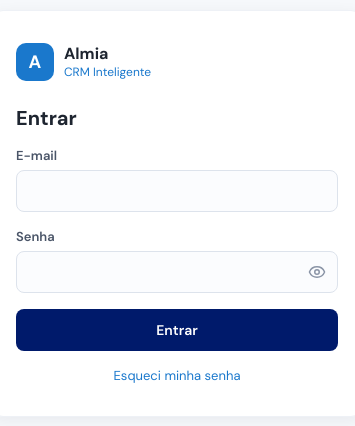
Scenario: Login › mostra a mensagem de erro quando as credenciais são inválidas
The width and height of the screenshot is (355, 426).
Type "ana@almia.pro" into the field labelled "E-mail" at [177, 190], box left=16, top=170, right=338, bottom=212
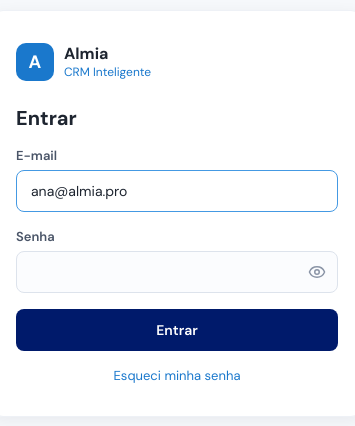
Type "senha-segura-1" into the password field labelled "Senha" at [177, 272], box left=16, top=250, right=338, bottom=292
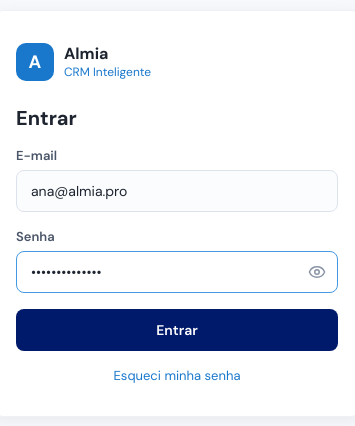
Click the button "Entrar" at [177, 330], box left=16, top=308, right=338, bottom=350
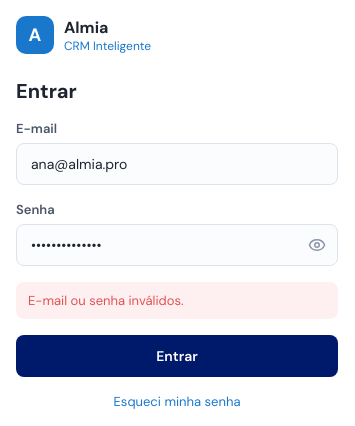
Expected: the message reads "E-mail ou senha inválidos.", left=28, top=292, right=184, bottom=309
